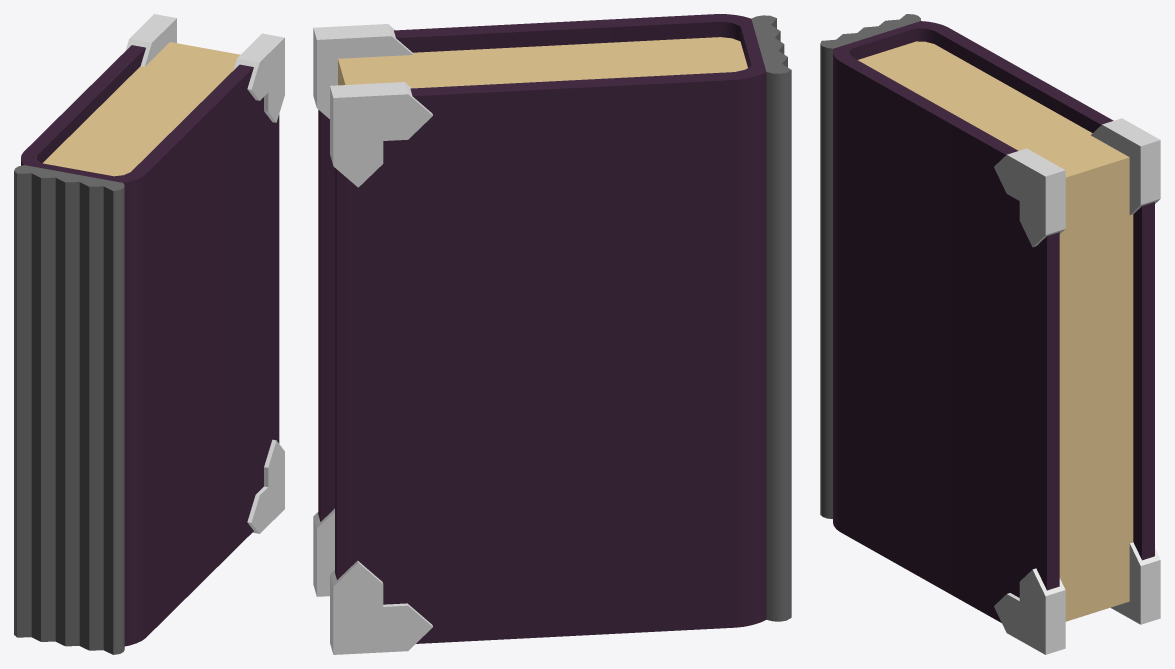
Rendered from obj_Book_05.fbx.
The picture shows the model from 3 angles, left to right: view 1: azimuth 30°, elevation 25°; view 2: azimuth 150°, elevation 25°; view 3: azimuth 270°, elevation 25°; orthographic projection. The views are drawn at different scales.
Visible parts, largest first — view 1: Book_05, Book_EdgePattern.013; view 2: Book_05, Book_EdgePattern.013; view 3: Book_05, Book_EdgePattern.013.
Part boxes in pixels (x1,y1,x2,y2): Book_05: (14, 42, 279, 654); Book_EdgePattern.013: (125, 14, 284, 533); Book_05: (318, 14, 791, 643); Book_EdgePattern.013: (313, 24, 432, 654); Book_05: (820, 14, 1154, 622); Book_EdgePattern.013: (994, 118, 1160, 654).
Size of the model in its own units: 0.2342 by 0.3137 by 0.2025.
